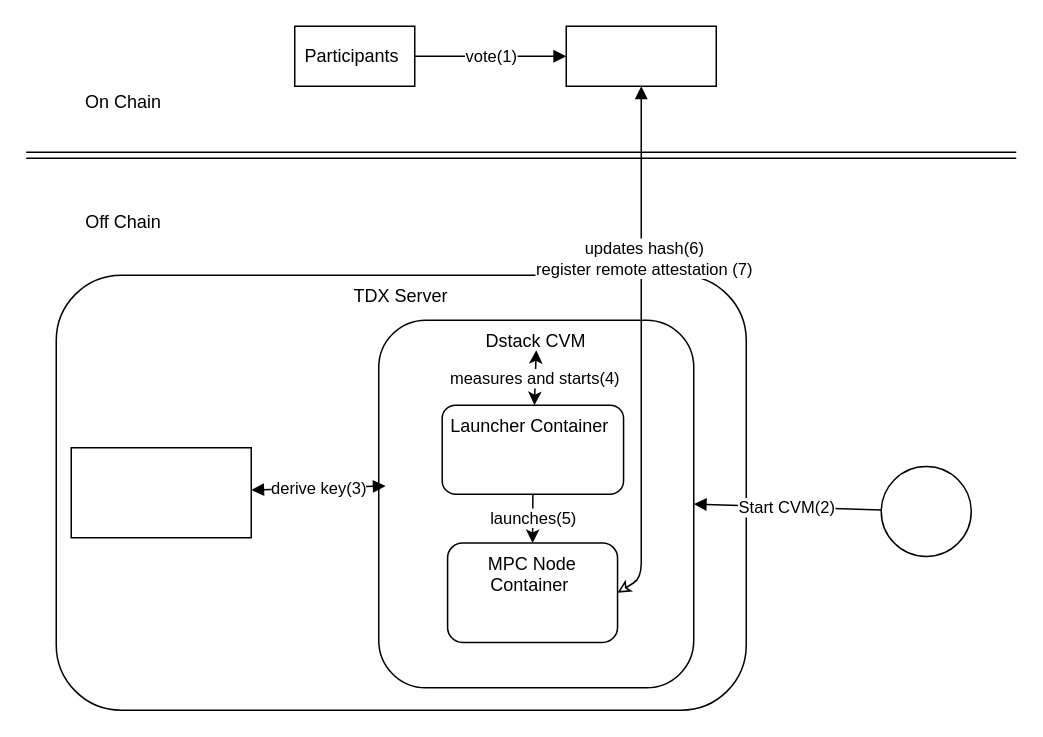
The diagram is 1043 pixels wide and 737 high, and some of its shapes have lost their labels. Here are the shapes that lost their labels. From the top down, the centre of each, then its label:
the point at 640,55: MPC Signer Contract
the point at 160,492: Gramine Key Provider
the point at 925,510: Operator
